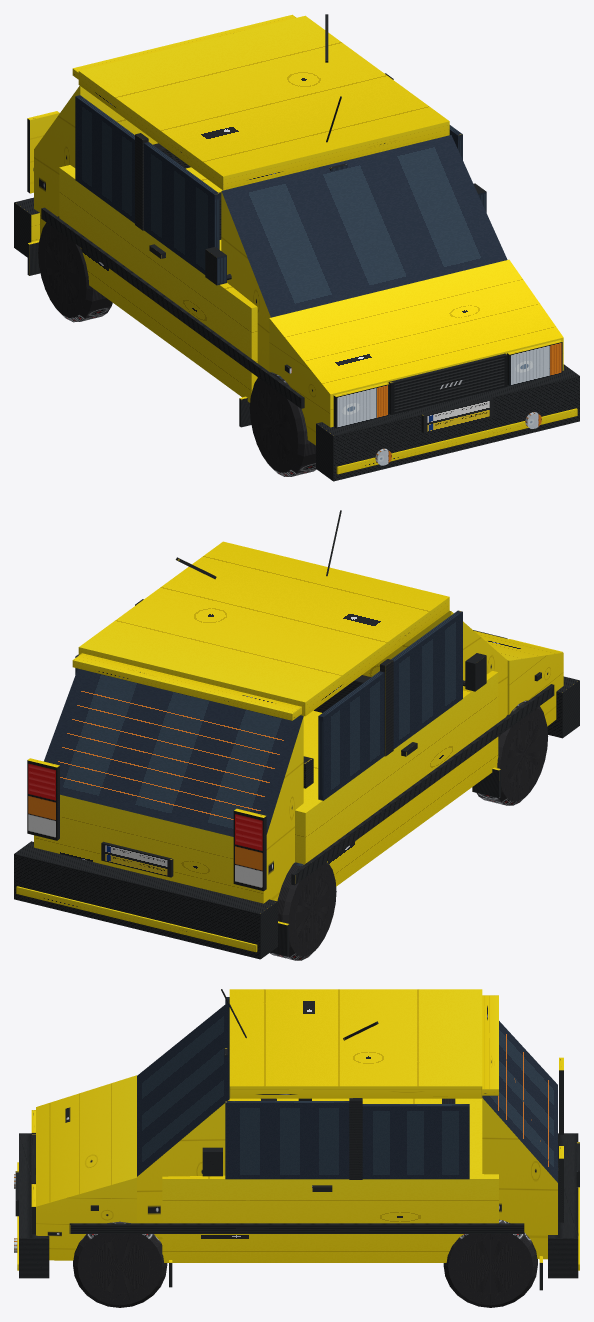
Rendered from vehicle_fiat_cinquecento.glb.
The picture shows the model from 3 angles, top to bottom: view 1: azimuth 30°, elevation 25°; view 2: azimuth 150°, elevation 25°; view 3: azimuth 270°, elevation 25°; orthographic projection. The views are drawn at different scales.
Visible parts, largest first — view 1: Vehicle_Fiat_Cinquecento; view 2: Vehicle_Fiat_Cinquecento; view 3: Vehicle_Fiat_Cinquecento.
Part boxes in pixels (<box>): Vehicle_Fiat_Cinquecento: <box>14,14,579,481</box>; Vehicle_Fiat_Cinquecento: <box>14,510,579,960</box>; Vehicle_Fiat_Cinquecento: <box>14,989,579,1307</box>.
Bounding box in the file's own units: 1.62 × 1.75 × 3.36.
1 material, 1 textured.
